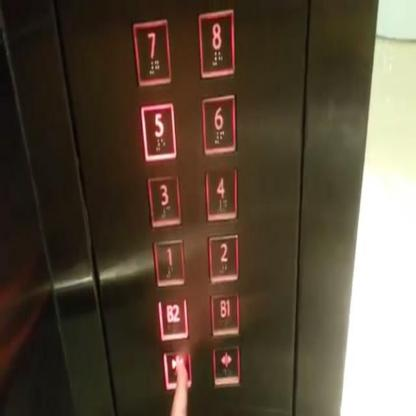1: (152, 234, 186, 286)
2: (206, 232, 240, 284)
3: (146, 171, 182, 230)
4: (203, 164, 238, 219)
5: (139, 101, 178, 161)
6: (200, 94, 236, 154)
7: (131, 16, 174, 88)
8: (197, 6, 237, 79)
B1: (210, 290, 241, 336)
B2: (155, 294, 188, 341)
open: (212, 342, 241, 386)
